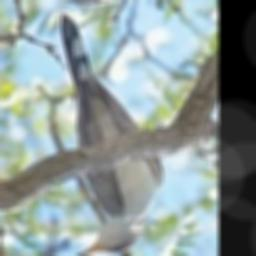Cuckoo: (60, 14, 164, 256)
